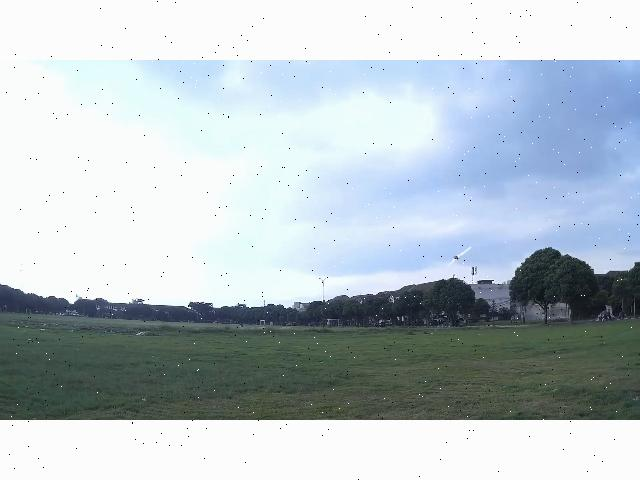Anti-Drone: (445, 248, 469, 270)
